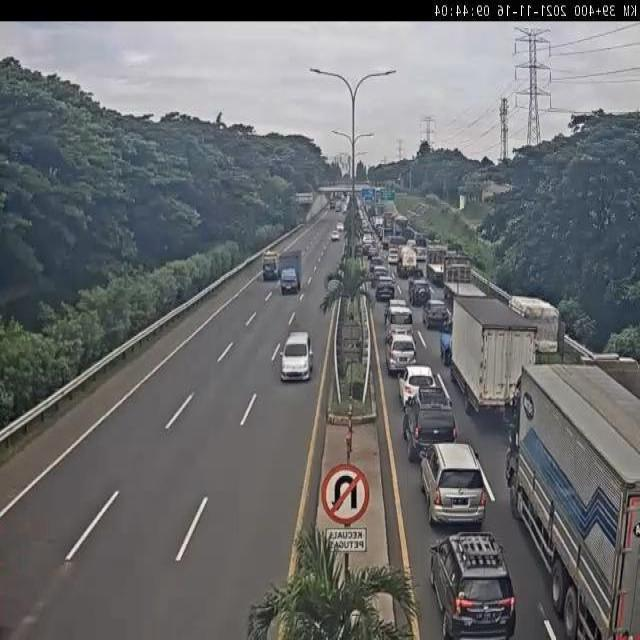Car: (428, 529, 515, 640), (418, 442, 488, 528), (402, 384, 458, 463), (399, 366, 438, 405), (386, 334, 418, 376), (424, 300, 450, 330), (411, 279, 431, 307), (375, 276, 396, 302), (386, 247, 399, 266), (331, 232, 339, 242)
Truck: (506, 363, 640, 640), (449, 293, 538, 416), (506, 294, 561, 364), (442, 253, 487, 310), (279, 250, 304, 296), (424, 244, 450, 283), (396, 243, 420, 280), (261, 250, 280, 280), (380, 225, 394, 249)
Van: (281, 332, 314, 382), (385, 306, 415, 341)
